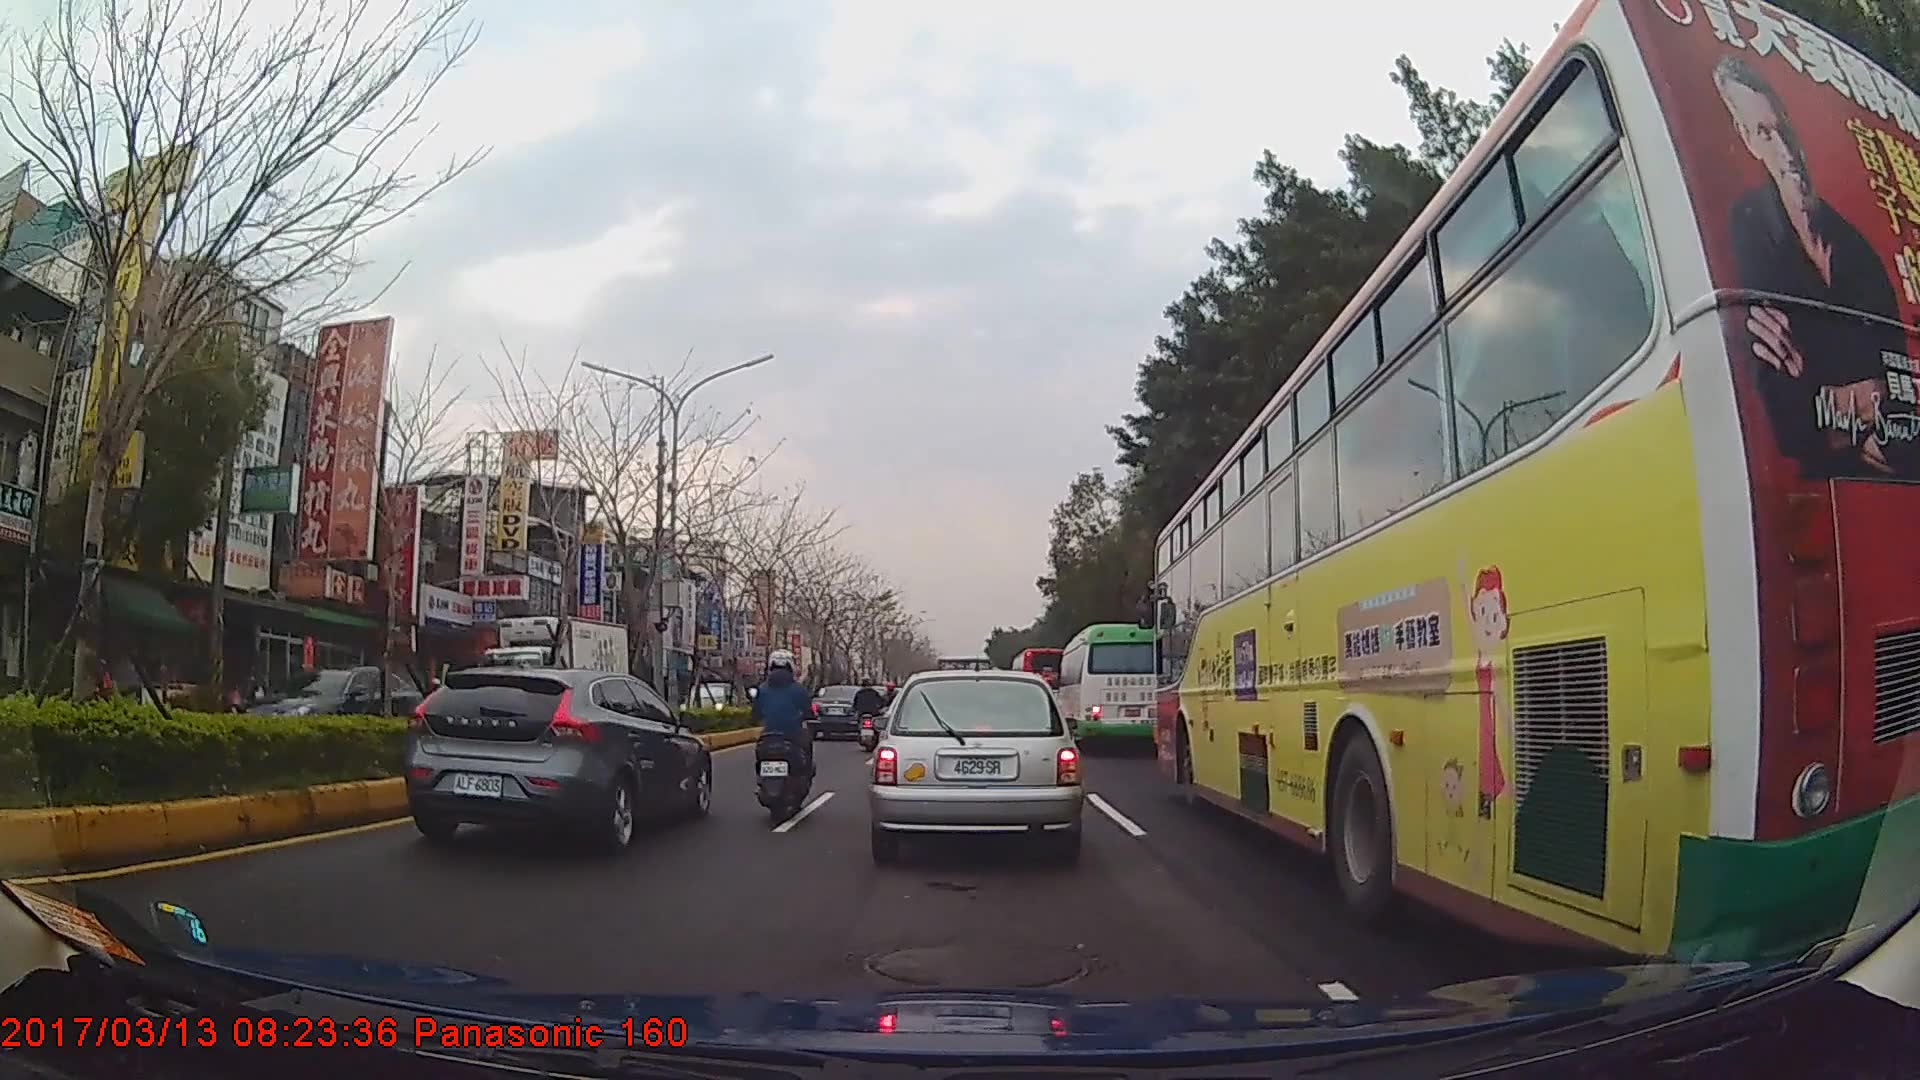rider: (750, 649, 821, 811), (854, 678, 888, 749), (881, 682, 903, 737)
vehicle: (1153, 0, 1920, 987), (402, 663, 713, 851), (870, 671, 1081, 864), (453, 610, 639, 756), (243, 664, 425, 779), (1054, 623, 1173, 753), (1008, 643, 1072, 715), (809, 684, 879, 738)
